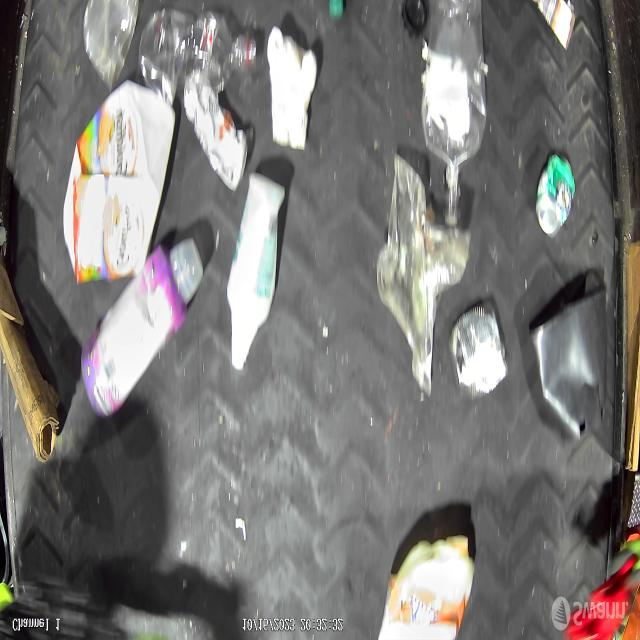can: (182, 74, 251, 192), (447, 299, 509, 401), (535, 152, 576, 240)
non_white_jug: (377, 535, 476, 640)
plastic_bottle: (138, 7, 258, 100)
